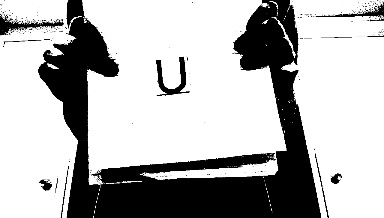U: (150, 56, 187, 92)
